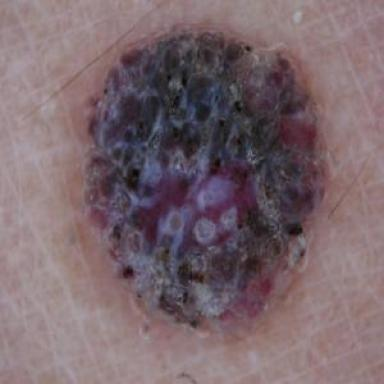Melanoma: (85, 33, 322, 327)
